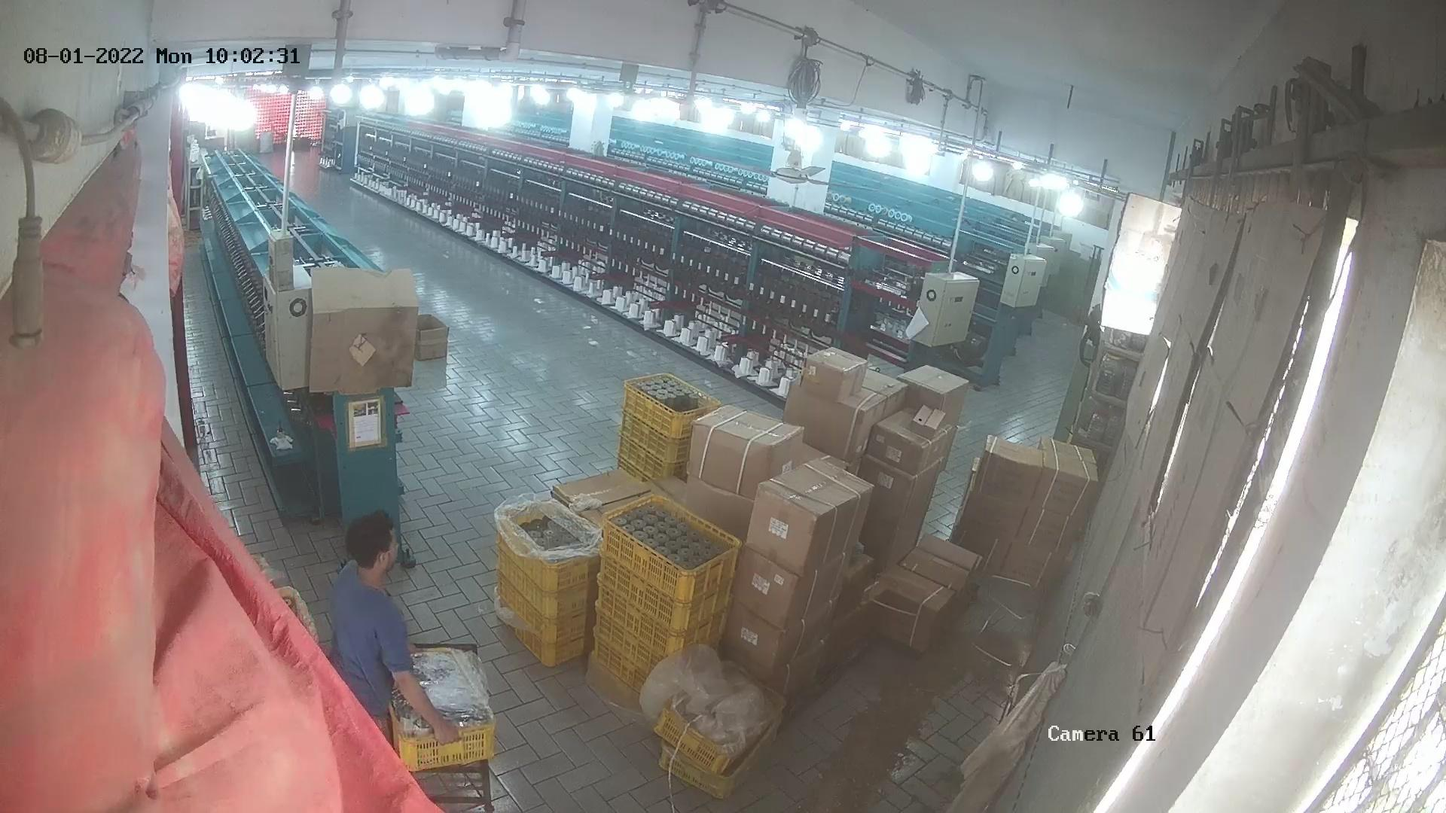person: (336, 514, 426, 689)
